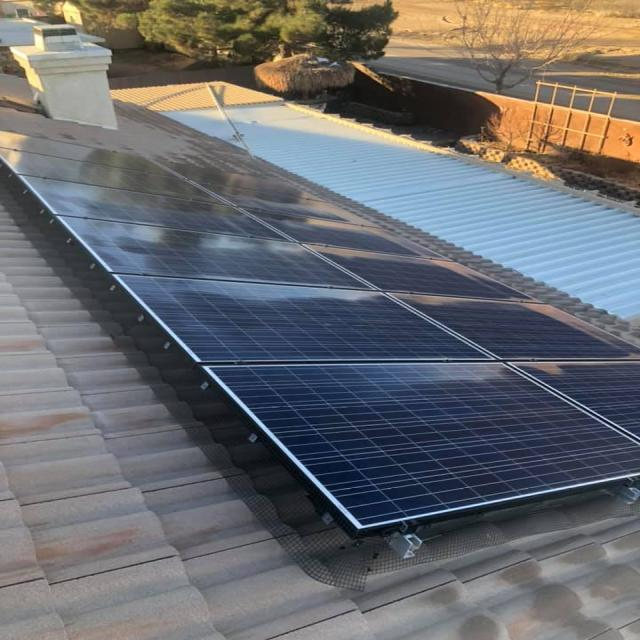clean-solar-panel: (2, 113, 638, 535)
